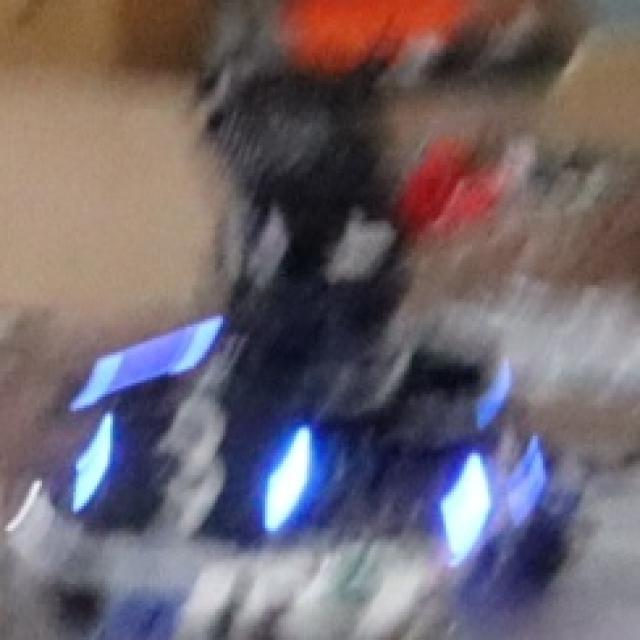B3: (76, 391, 317, 545)
